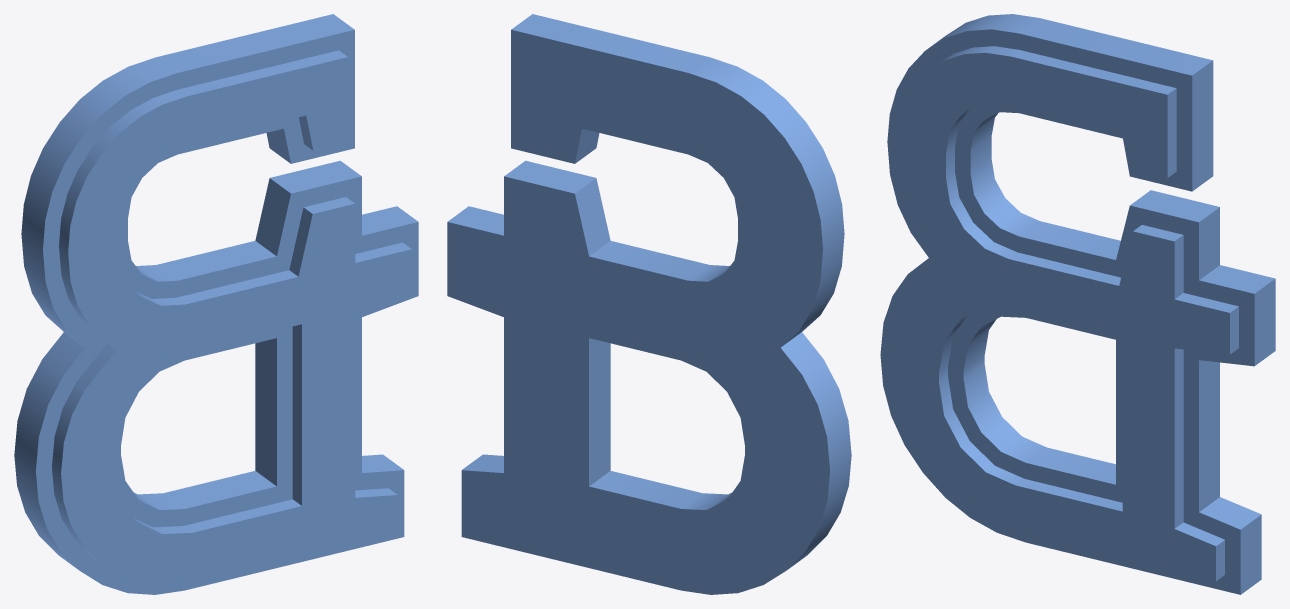
File: uploads_files_2164858_&.FBX
3 views of the same model, side by side, from view 1: azimuth 30°, elevation 25°; view 2: azimuth 150°, elevation 25°; view 3: azimuth 330°, elevation 25° (orthographic). The views are drawn at different scales.
Parts seen in each view (by area): view 1: &; view 2: &; view 3: &.
Part boxes in pixels (x1,y1,x2,y2): &: (14,14,418,594); &: (447,14,851,594); &: (880,14,1275,594).
Size of the model in its own units: 3.6 by 4.67 by 0.5.
